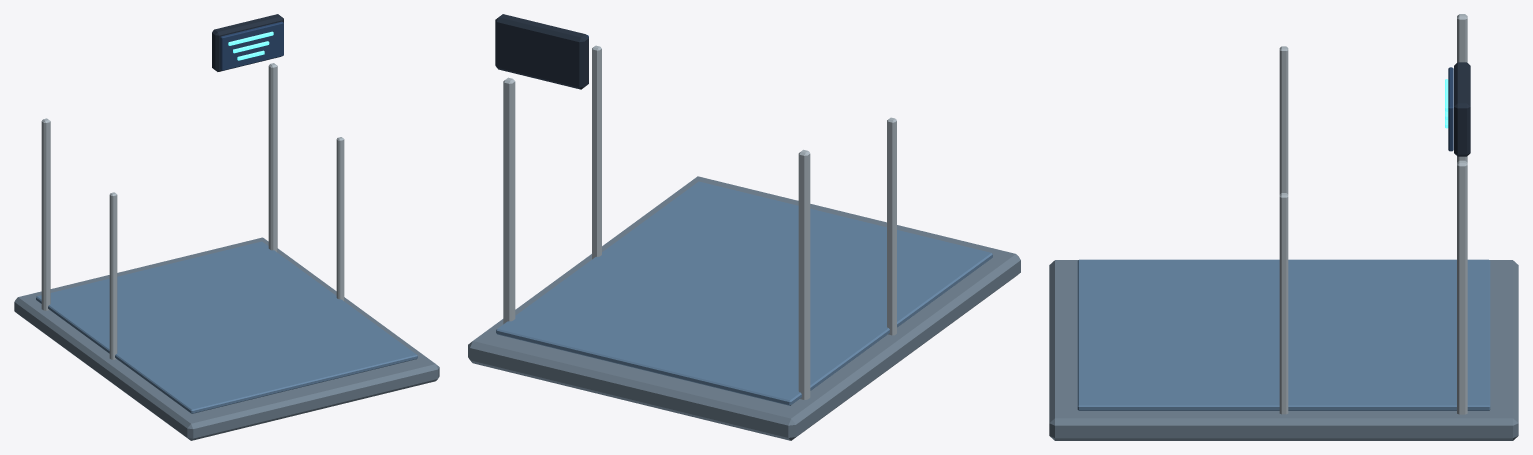
File: clinic_10.glb
3 renders of one model, left to right at view 1: azimuth 30°, elevation 25°; view 2: azimuth 150°, elevation 25°; view 3: azimuth 270°, elevation 25°, orthographic. The views are drawn at different scales.
Parts seen in each view (by area): view 1: ScaleDeck, ScalePlatform, RailPost (×2), AccessRail (×2), Screen, MonitorFrame; view 2: ScaleDeck, ScalePlatform, RailPost (×2), MonitorFrame, AccessRail (×2); view 3: ScaleDeck, ScalePlatform, AccessRail (×2), RailPost (×2), MonitorFrame, Screen.
Boxes of the visible parts, bbox=[...] form: ScaleDeck: bbox=[36, 241, 417, 413]; ScalePlatform: bbox=[14, 237, 439, 440]; RailPost (×2): bbox=[41, 63, 277, 310]; AccessRail (×2): bbox=[109, 137, 344, 359]; Screen: bbox=[220, 21, 283, 70]; MonitorFrame: bbox=[212, 14, 283, 71]; ScaleDeck: bbox=[496, 181, 992, 405]; ScalePlatform: bbox=[468, 176, 1020, 440]; RailPost (×2): bbox=[503, 77, 810, 399]; MonitorFrame: bbox=[495, 14, 588, 89]; AccessRail (×2): bbox=[592, 45, 896, 335]; ScaleDeck: bbox=[1077, 259, 1490, 410]; ScalePlatform: bbox=[1049, 260, 1518, 440]; AccessRail (×2): bbox=[1279, 46, 1288, 414]; RailPost (×2): bbox=[1457, 14, 1467, 414]; MonitorFrame: bbox=[1454, 62, 1470, 156]; Screen: bbox=[1448, 67, 1453, 151].
Size of the model in its own units: 0.92 by 0.885 by 1.12.
